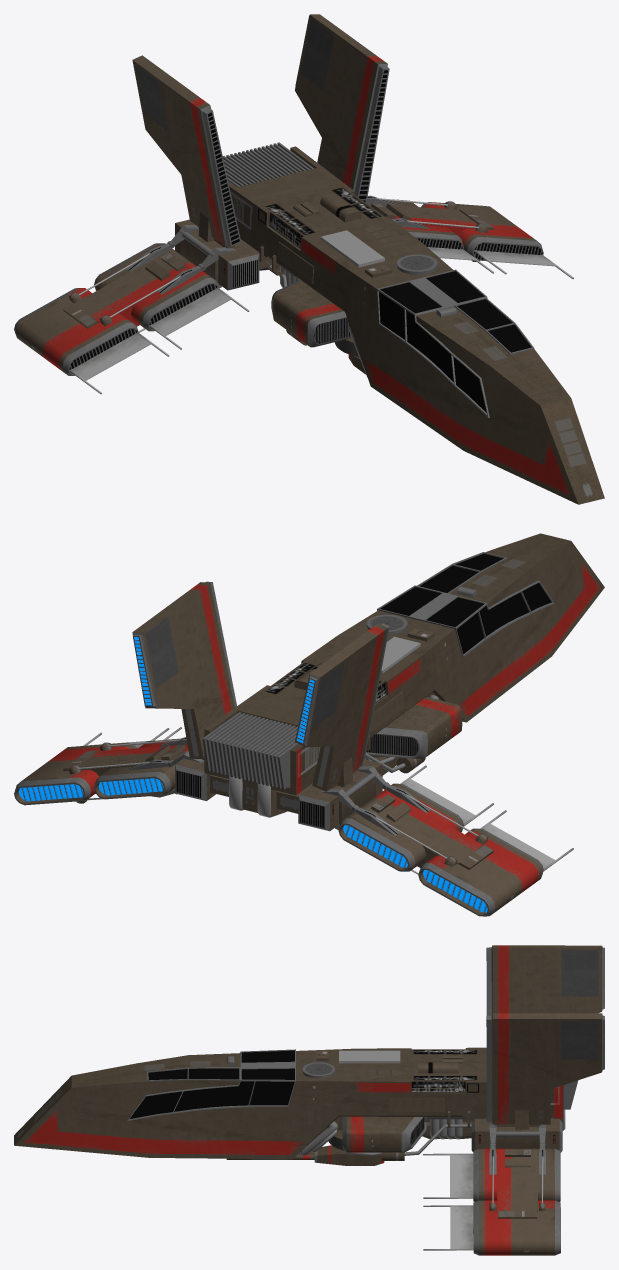
Rendered from MoldyCrow.fbx.
3 renders of one model, top to bottom at view 1: azimuth 30°, elevation 25°; view 2: azimuth 150°, elevation 25°; view 3: azimuth 270°, elevation 25°, orthographic. The views are drawn at different scales.
Parts seen in each view (by area): view 1: HWK-290; view 2: HWK-290; view 3: HWK-290.
Part boxes in pixels (box(x1,y1,x2,y2)): HWK-290: box(14, 14, 604, 504); HWK-290: box(14, 533, 604, 916); HWK-290: box(14, 945, 604, 1255).
Size of the model in its own units: 8189 by 3737 by 10855.
